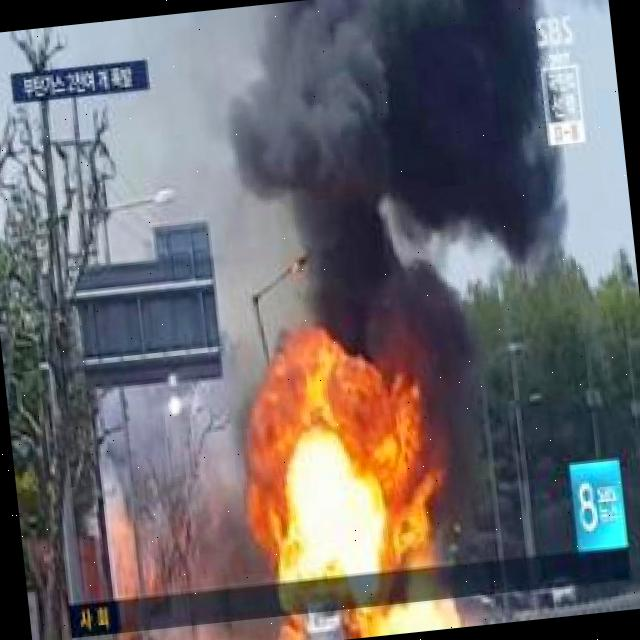fire: (246, 363, 457, 640)
